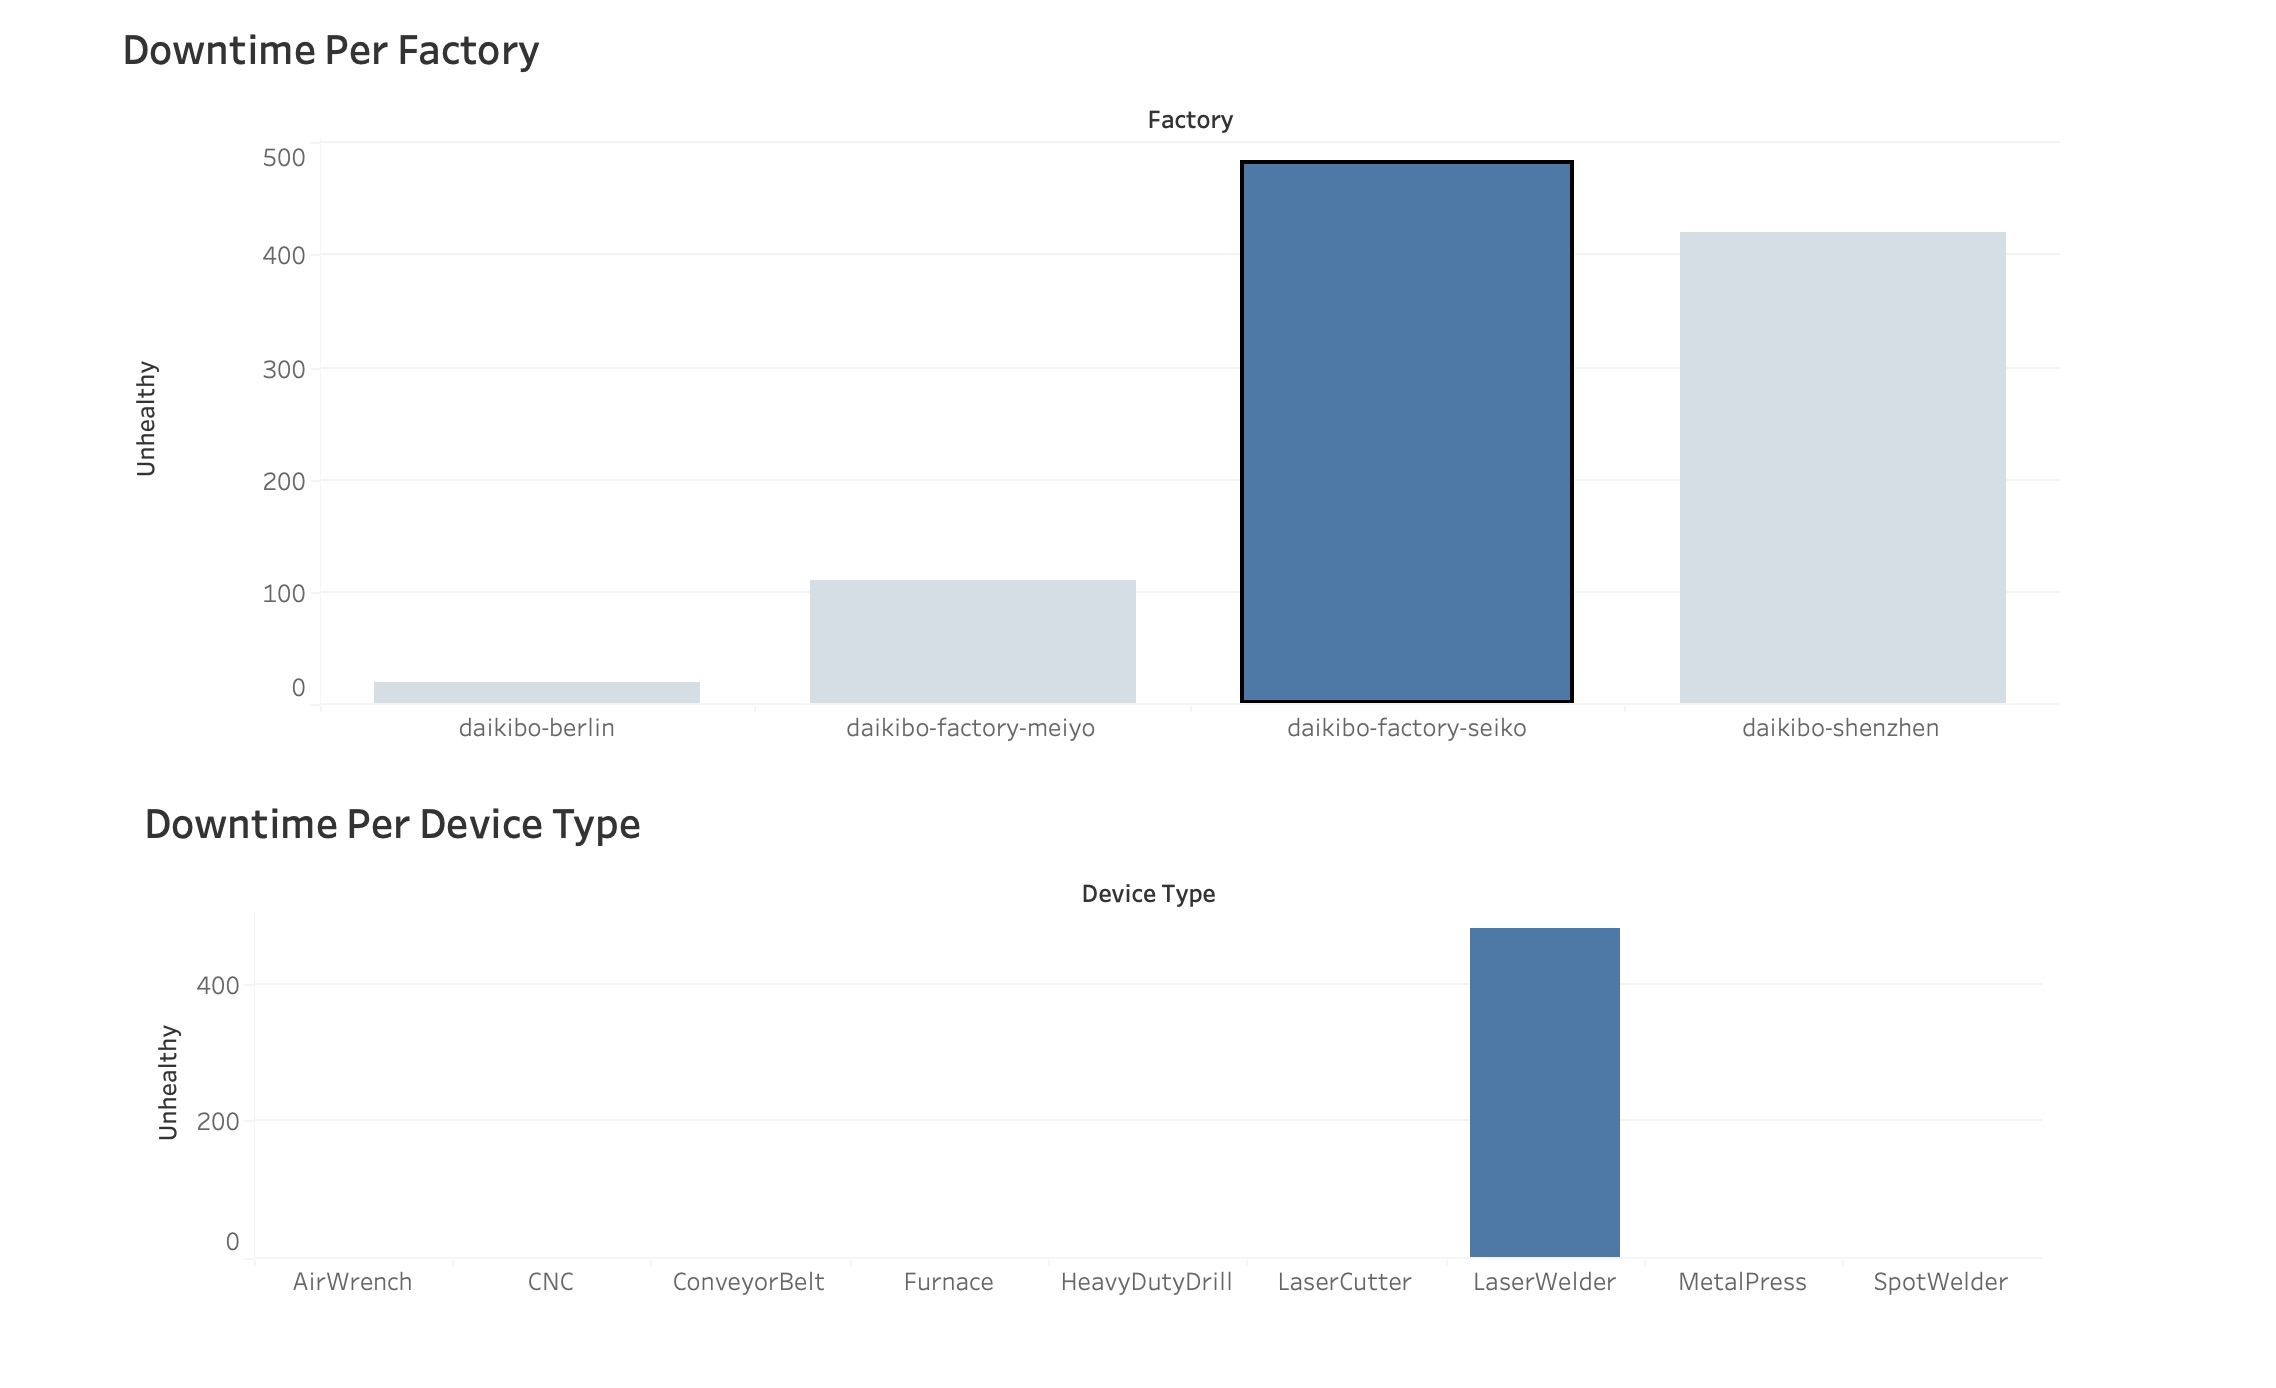

What the dashboard file says about the page in this screenshot:
{"tool":"tableau","page":{"name":"Dashboard 1","canvas":[1000,800],"ordinal":0},"visuals":[{"type":"worksheet","title":"Sheet 1","mark":"Automatic","rows":["Calculation_0803625056980992"],"cols":["factory"],"box":[29,13,973,367]},{"type":"worksheet","title":"Sheet 2","mark":"Automatic","rows":["Calculation_0803625056980992"],"cols":["deviceType"],"box":[40,400,953,257]}]}

Visuals, with their boxes on the page's 1000x800 design canvas (x1, y1, x2, y2). These are canvas units, not pixel positions in the 2276x1388 screenshot, which may show the page scaled, cropped or inside an application window:
"Sheet 1" worksheet: locate(29, 13, 1002, 380)
"Sheet 2" worksheet: locate(40, 400, 993, 657)
